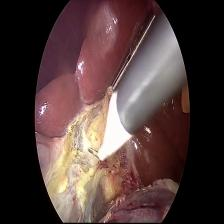Grasper: (107, 10, 158, 96)
Hook: (83, 95, 134, 172)
